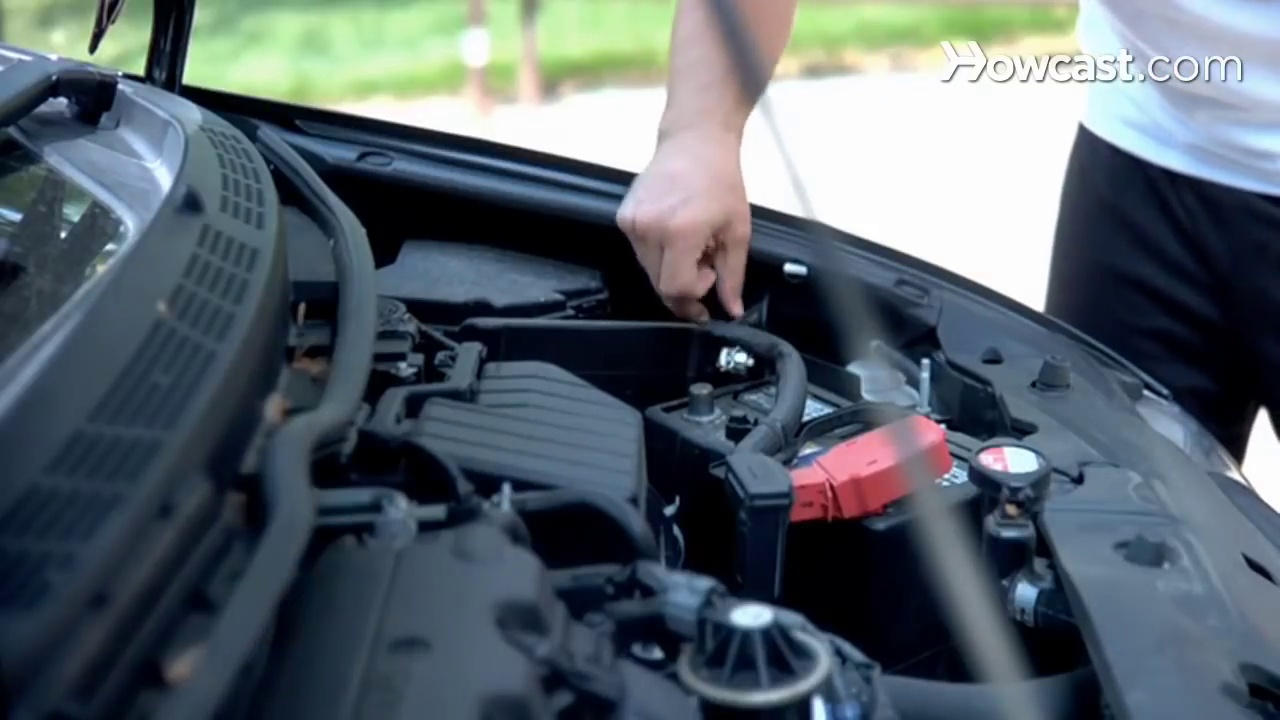battery: (646, 351, 1020, 542)
neg_disconnected: (680, 342, 760, 425)
pos_connected: (778, 411, 958, 534)
